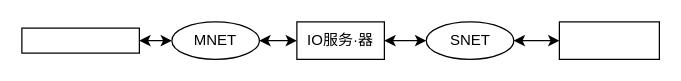
This 681x81 diagram has some shape labels left out. Here are the shapes that lost their labels. From the top down, the centre of each, then its label:
the point at 80,40: OPS
the point at 608,40: 控制站
